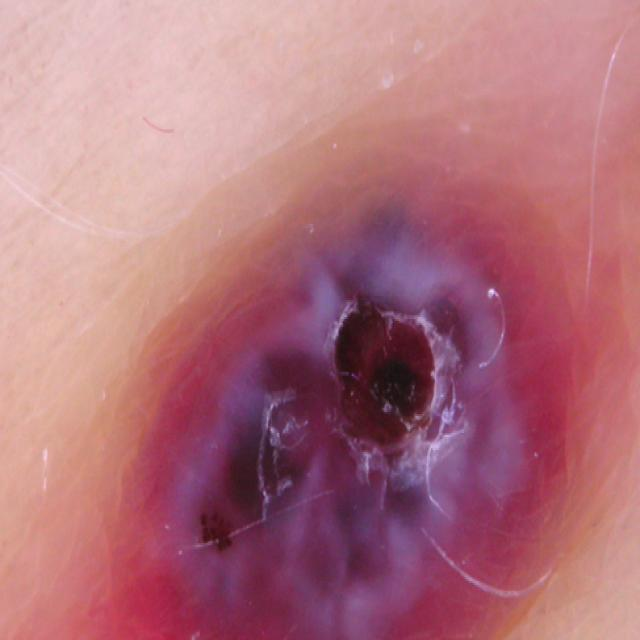Vascular Lesions: (120, 161, 559, 640)
